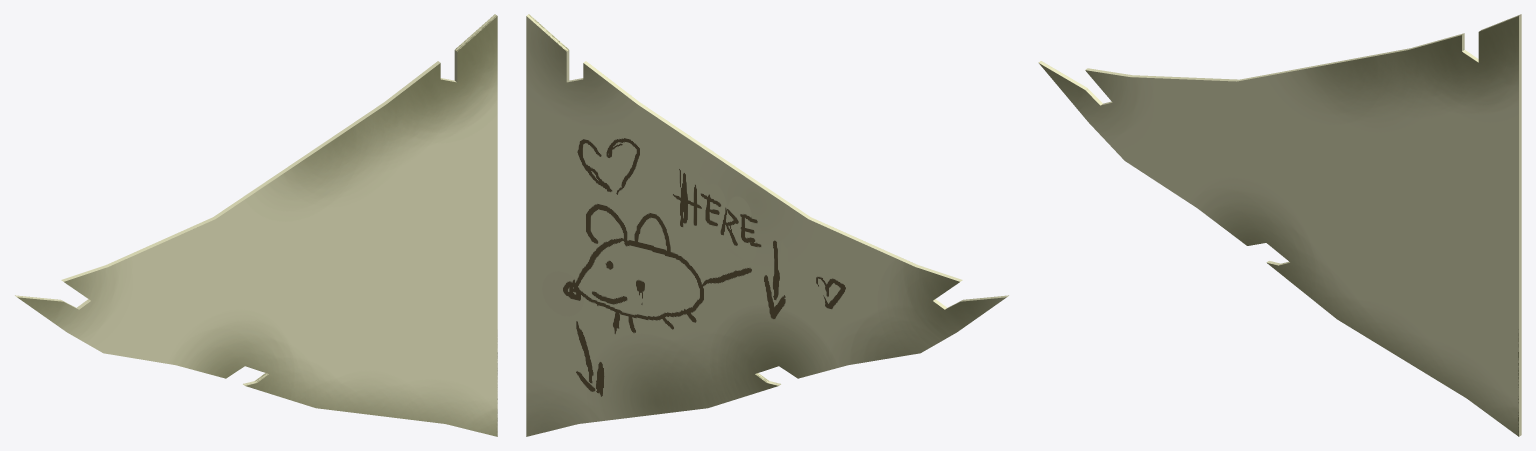
File: flag2.fbx
3 renders of one model, left to right at view 1: azimuth 30°, elevation 25°; view 2: azimuth 150°, elevation 25°; view 3: azimuth 330°, elevation 25°, orthographic.
Visible parts, largest first — view 1: Cube; view 2: Cube; view 3: Cube.
Part boxes in pixels (x1=…): Cube: x1=15, y1=14, x2=497, y2=436; Cube: x1=526, y1=14, x2=1008, y2=436; Cube: x1=1038, y1=14, x2=1521, y2=436.
Size of the model in its own units: 119 by 99.62 by 1.14.
Materials: 1 (1 with a texture image).
